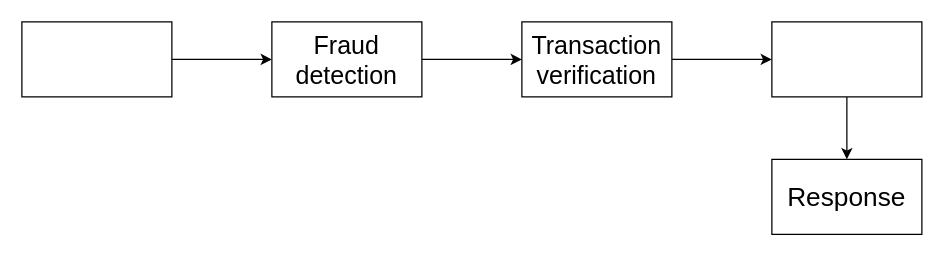
This 944x256 diagram has some shape labels left out. Each missing label, with the centre of its shape:
"Book suggestion" belongs at pixel 846 59.
"Request" belongs at pixel 96 59.
